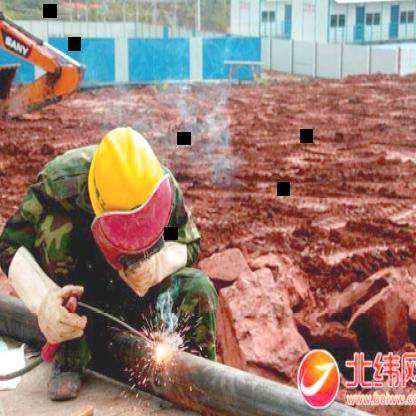helmet: (80, 118, 178, 254)
